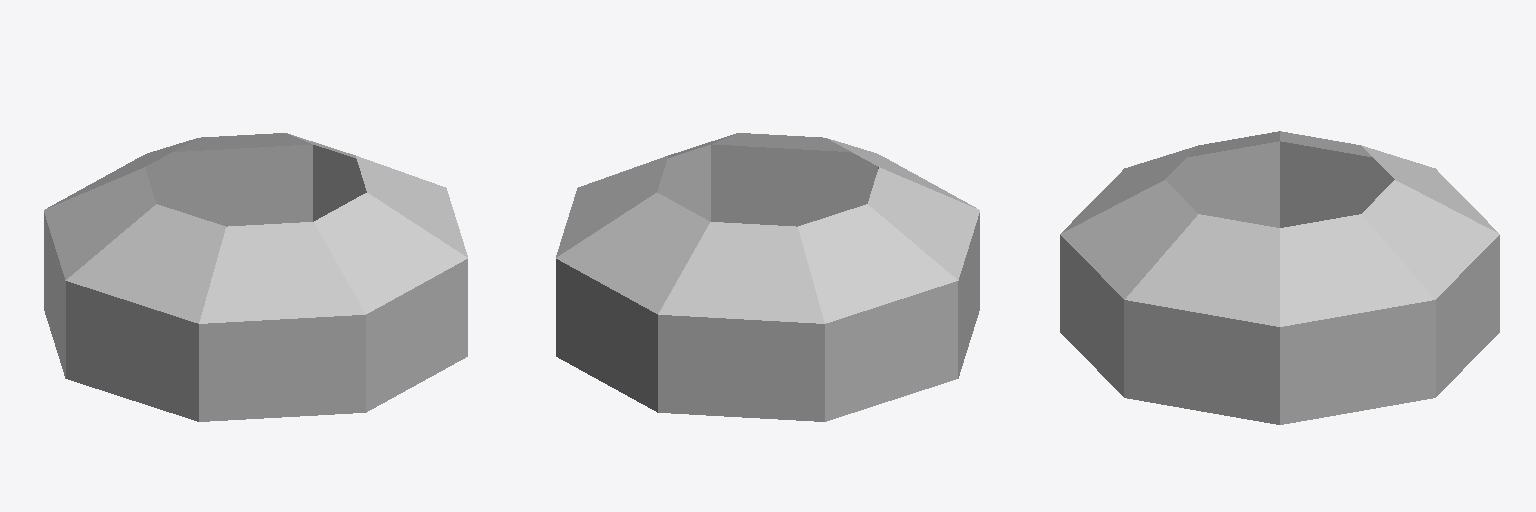
The model's file is TestOctogonArena.obj.
The picture shows the model from 3 angles: view 1: azimuth 30°, elevation 25°; view 2: azimuth 150°, elevation 25°; view 3: azimuth 270°, elevation 25°; orthographic projection.
Visible parts, largest first — view 1: Circle; view 2: Circle; view 3: Circle.
Boxes of the visible parts, x1=… form: Circle: x1=44, y1=133, x2=467, y2=421; Circle: x1=556, y1=133, x2=979, y2=421; Circle: x1=1060, y1=131, x2=1499, y2=424.
Size of the model in its own units: 57.11 by 21.86 by 57.11.